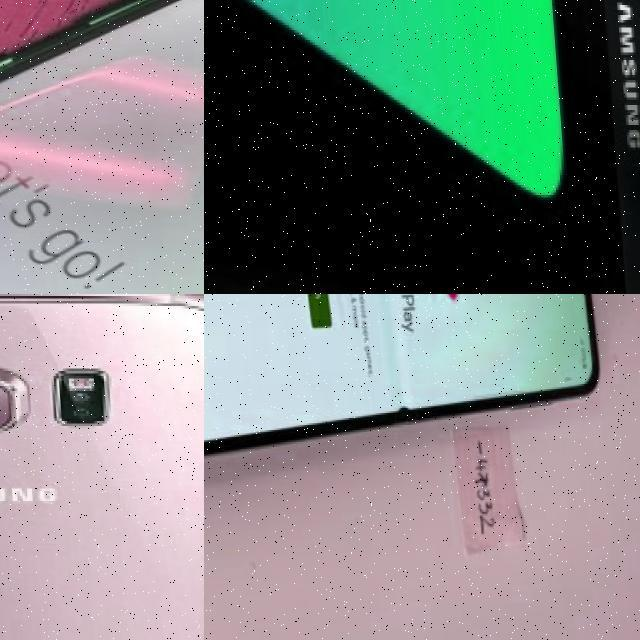dead pixel: (377, 388, 418, 439)
